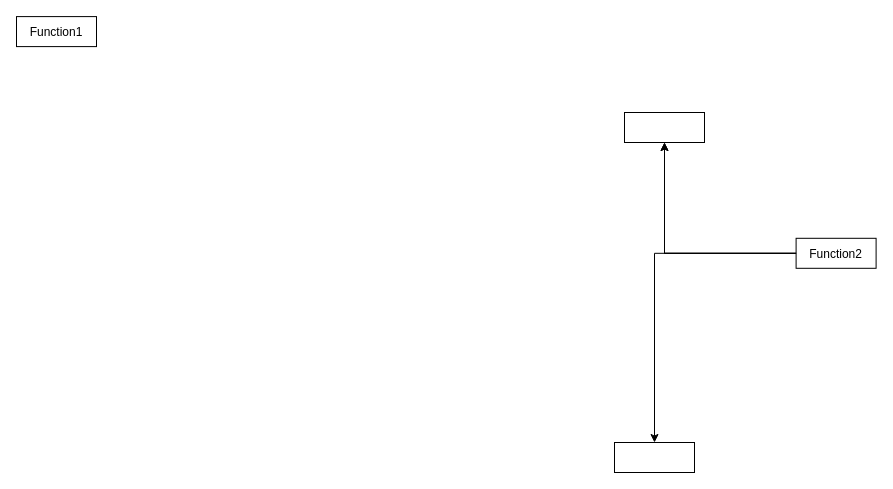
This 893x489 diagram has some shape labels left out. The shapes that lost their labels are listed below. From the top down, each one's centre as x and y in pixels, then its label:
At point (664, 127): "Topic".
At point (654, 457): "DynamoTable".
